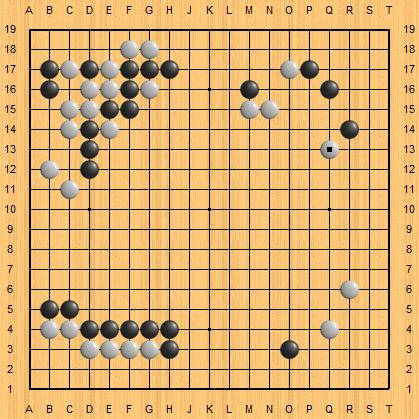black: (39, 298, 59, 318), (39, 59, 59, 79), (39, 79, 59, 99), (59, 299, 79, 319), (79, 319, 99, 339), (78, 59, 98, 79), (79, 119, 99, 139), (78, 139, 98, 159), (79, 159, 99, 179), (98, 319, 118, 339), (98, 99, 118, 119), (119, 319, 139, 339), (118, 79, 138, 99), (119, 97, 139, 117), (138, 319, 158, 339), (138, 59, 158, 79), (158, 319, 178, 339), (158, 339, 178, 359), (159, 59, 179, 79), (239, 79, 259, 99), (279, 339, 299, 359), (299, 59, 319, 79), (319, 79, 339, 99), (338, 119, 358, 139)
white: (40, 315, 62, 337), (40, 157, 62, 179), (59, 315, 81, 337), (60, 57, 82, 79), (60, 95, 82, 117), (60, 177, 82, 199), (80, 335, 102, 357), (78, 75, 100, 97), (80, 97, 102, 119), (101, 335, 123, 357), (103, 56, 125, 78), (100, 75, 122, 97), (101, 115, 123, 137), (120, 335, 142, 357), (120, 37, 142, 59), (104, 56, 126, 78), (140, 336, 162, 358), (139, 37, 161, 59), (139, 76, 161, 98), (239, 96, 261, 118), (260, 94, 282, 116), (280, 57, 302, 79), (318, 316, 340, 338), (341, 276, 363, 298)
